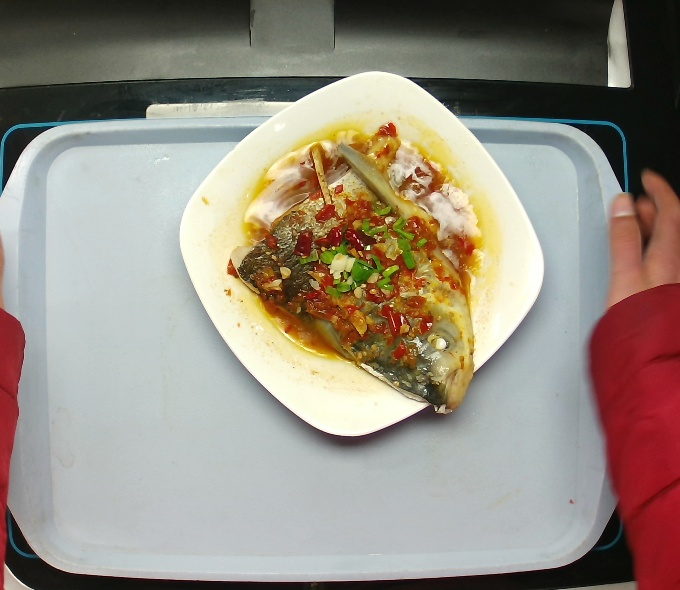wcq-DuoJiaoYuTou: (234, 129, 491, 421)
